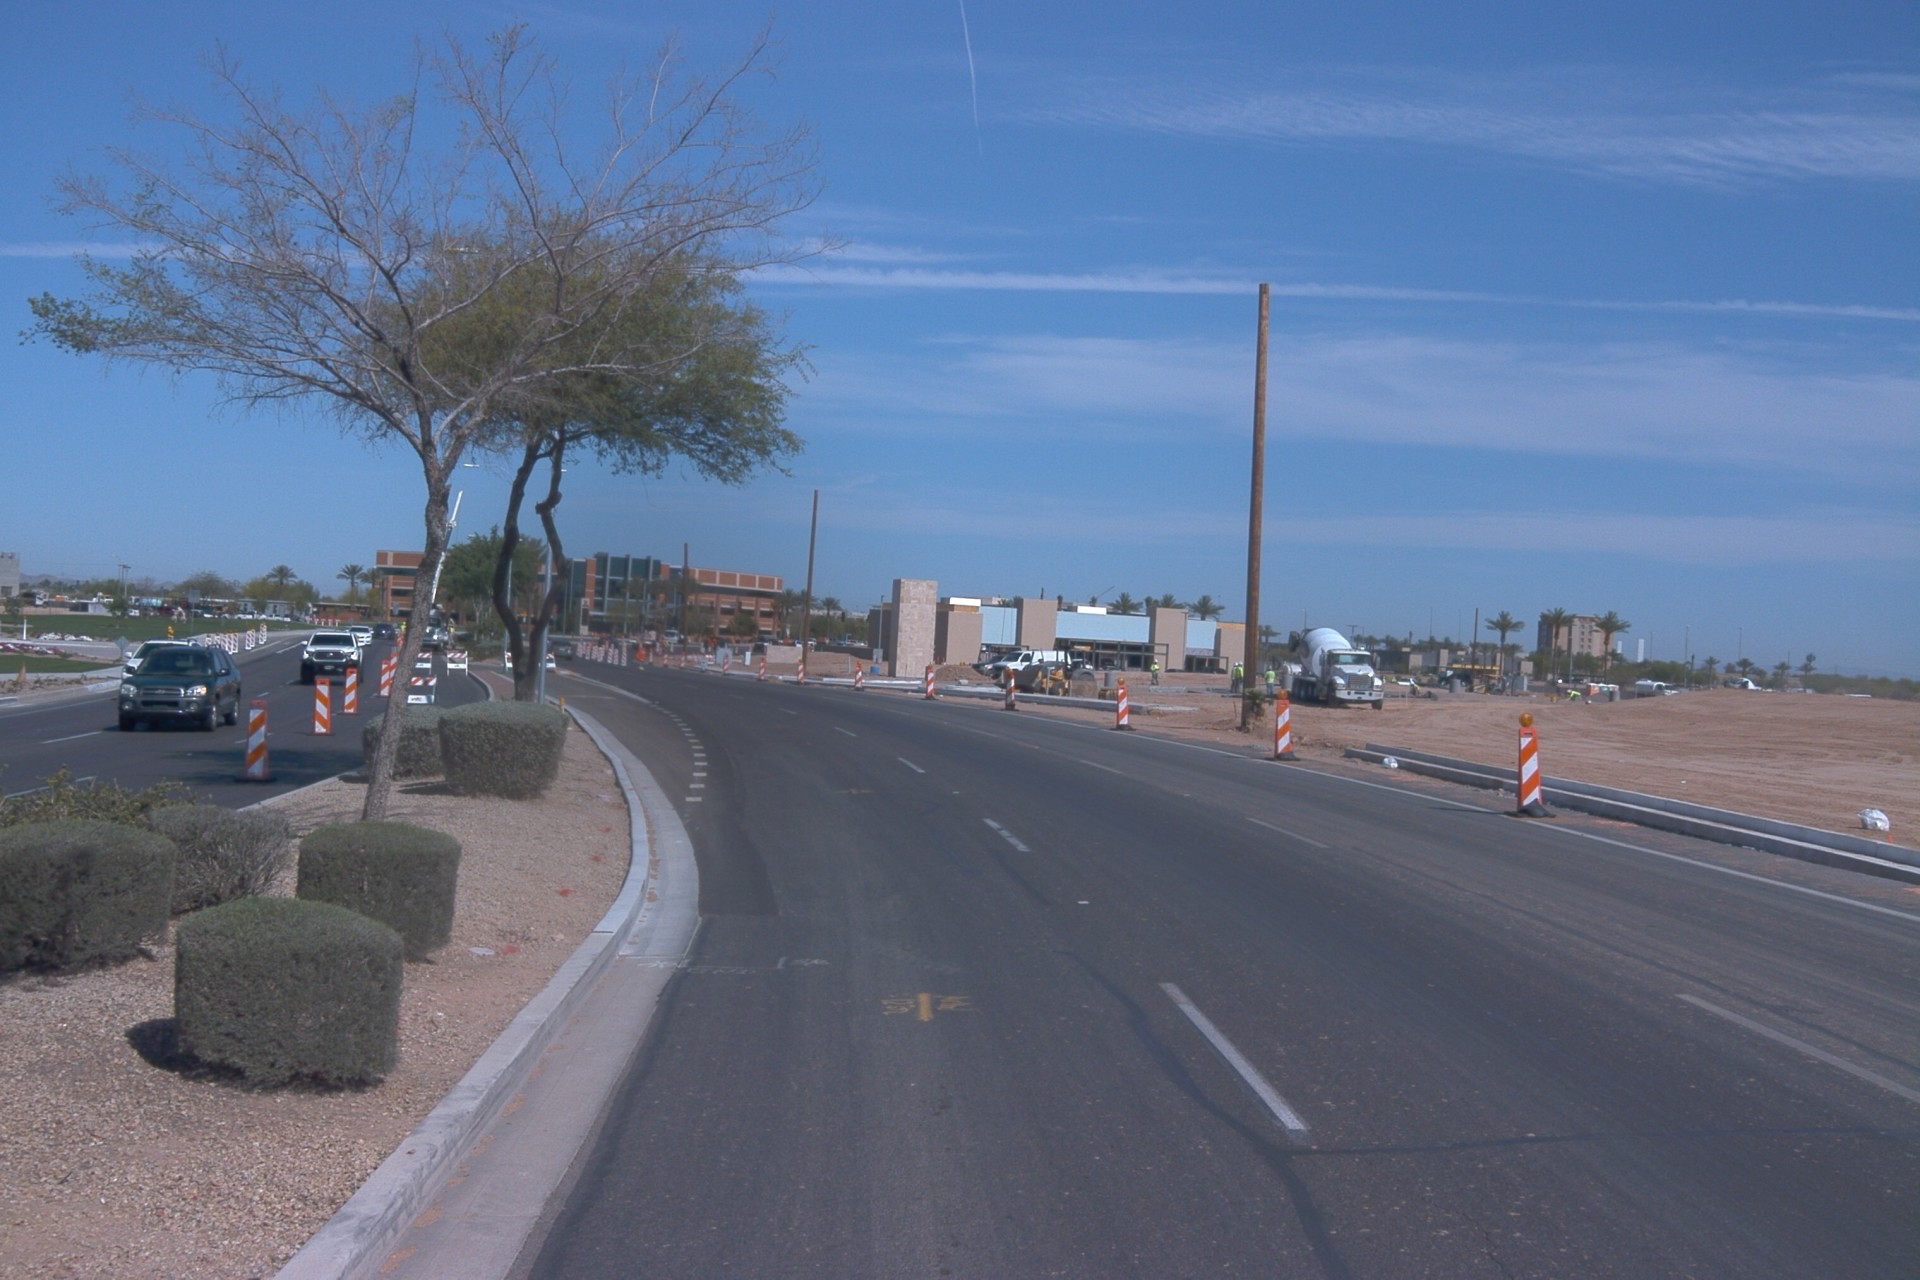TYPE_PEDESTRIAN: (1262, 666, 1276, 699), (1233, 662, 1245, 695), (1229, 662, 1239, 696), (1149, 660, 1160, 687), (1408, 681, 1422, 695), (449, 621, 456, 633)
TYPE_VEHICLE: (393, 479, 470, 645), (119, 642, 242, 731), (122, 634, 204, 684), (300, 629, 363, 684), (989, 651, 1074, 682), (583, 616, 616, 660), (2, 585, 50, 611), (970, 652, 1008, 681), (1629, 680, 1680, 701), (755, 633, 787, 657), (546, 638, 575, 662), (1465, 680, 1505, 696), (350, 624, 375, 649), (661, 628, 694, 645), (221, 607, 261, 621), (1071, 653, 1095, 673), (1278, 663, 1305, 679), (67, 599, 90, 613), (1846, 690, 1874, 701), (1194, 666, 1227, 675), (375, 625, 393, 640), (1395, 677, 1419, 688), (126, 604, 140, 618), (677, 630, 688, 646), (1162, 668, 1189, 674)
